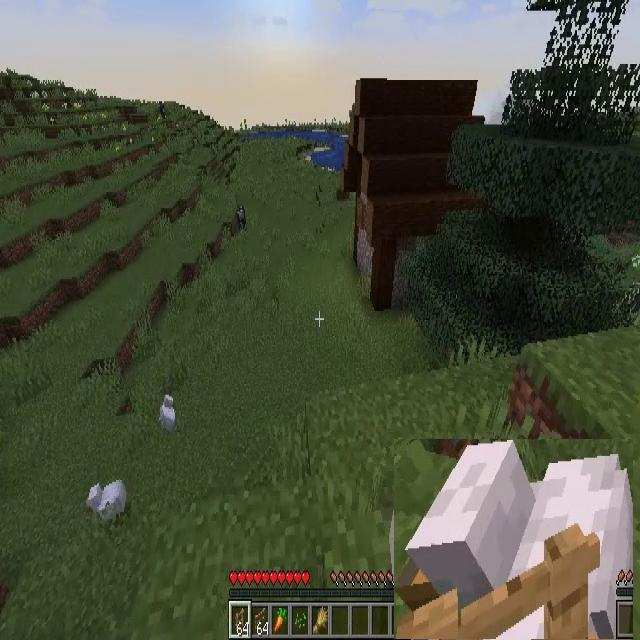duck: (394, 440, 633, 640), (88, 482, 126, 522), (160, 394, 175, 434)
